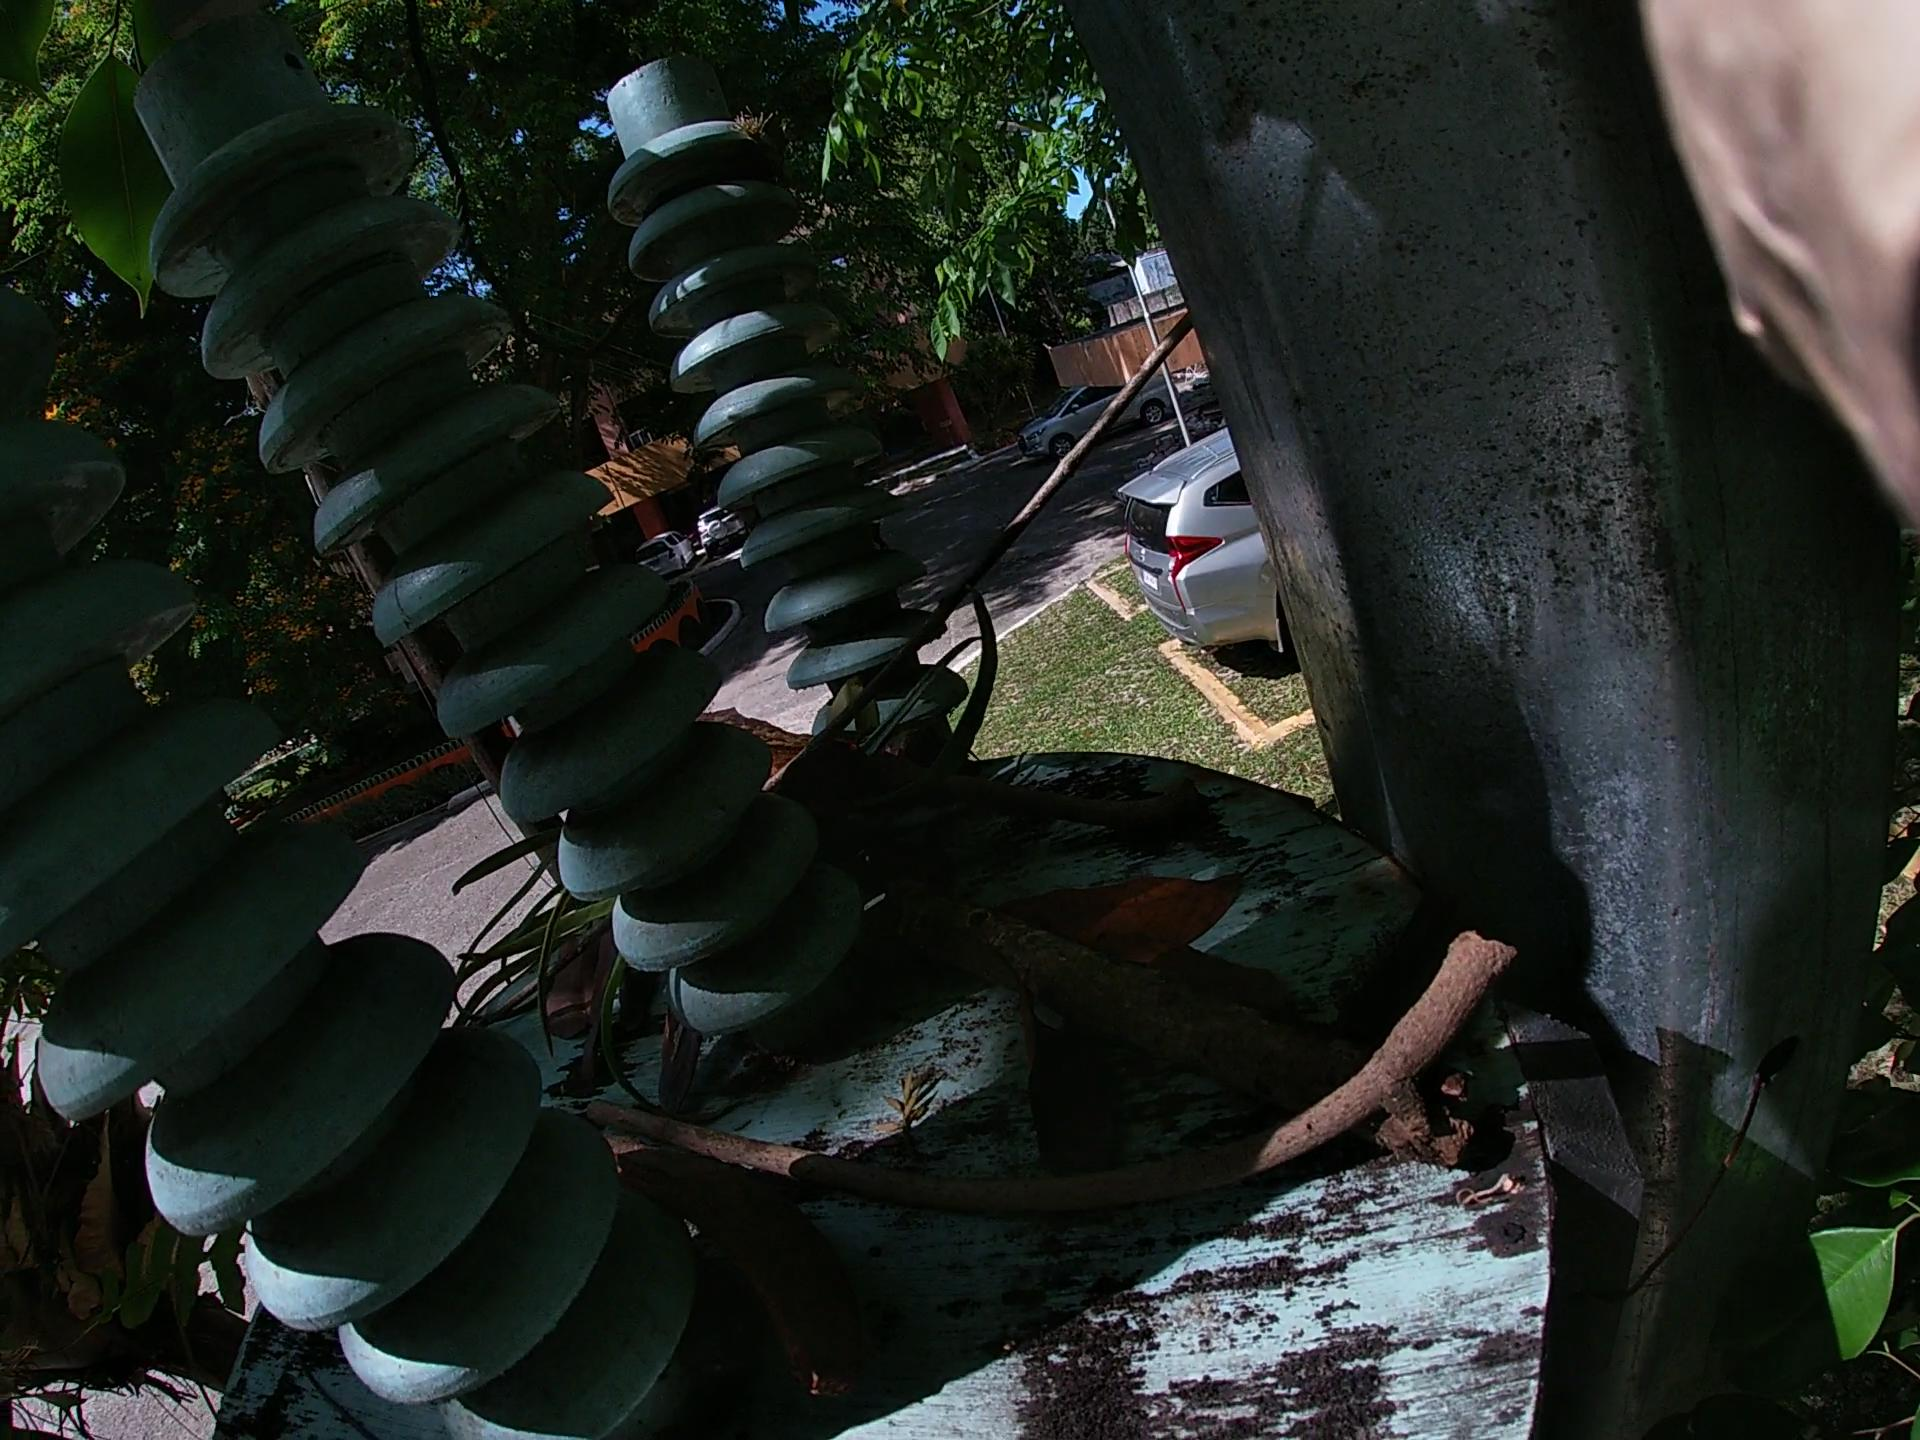branch with leaves: (522, 570, 1459, 1160)
leaf: (996, 835, 1323, 1196)
mahogany fruit: (522, 1053, 872, 1383), (618, 626, 848, 835)
tree branch: (674, 271, 1141, 861), (570, 1077, 1504, 1257)
